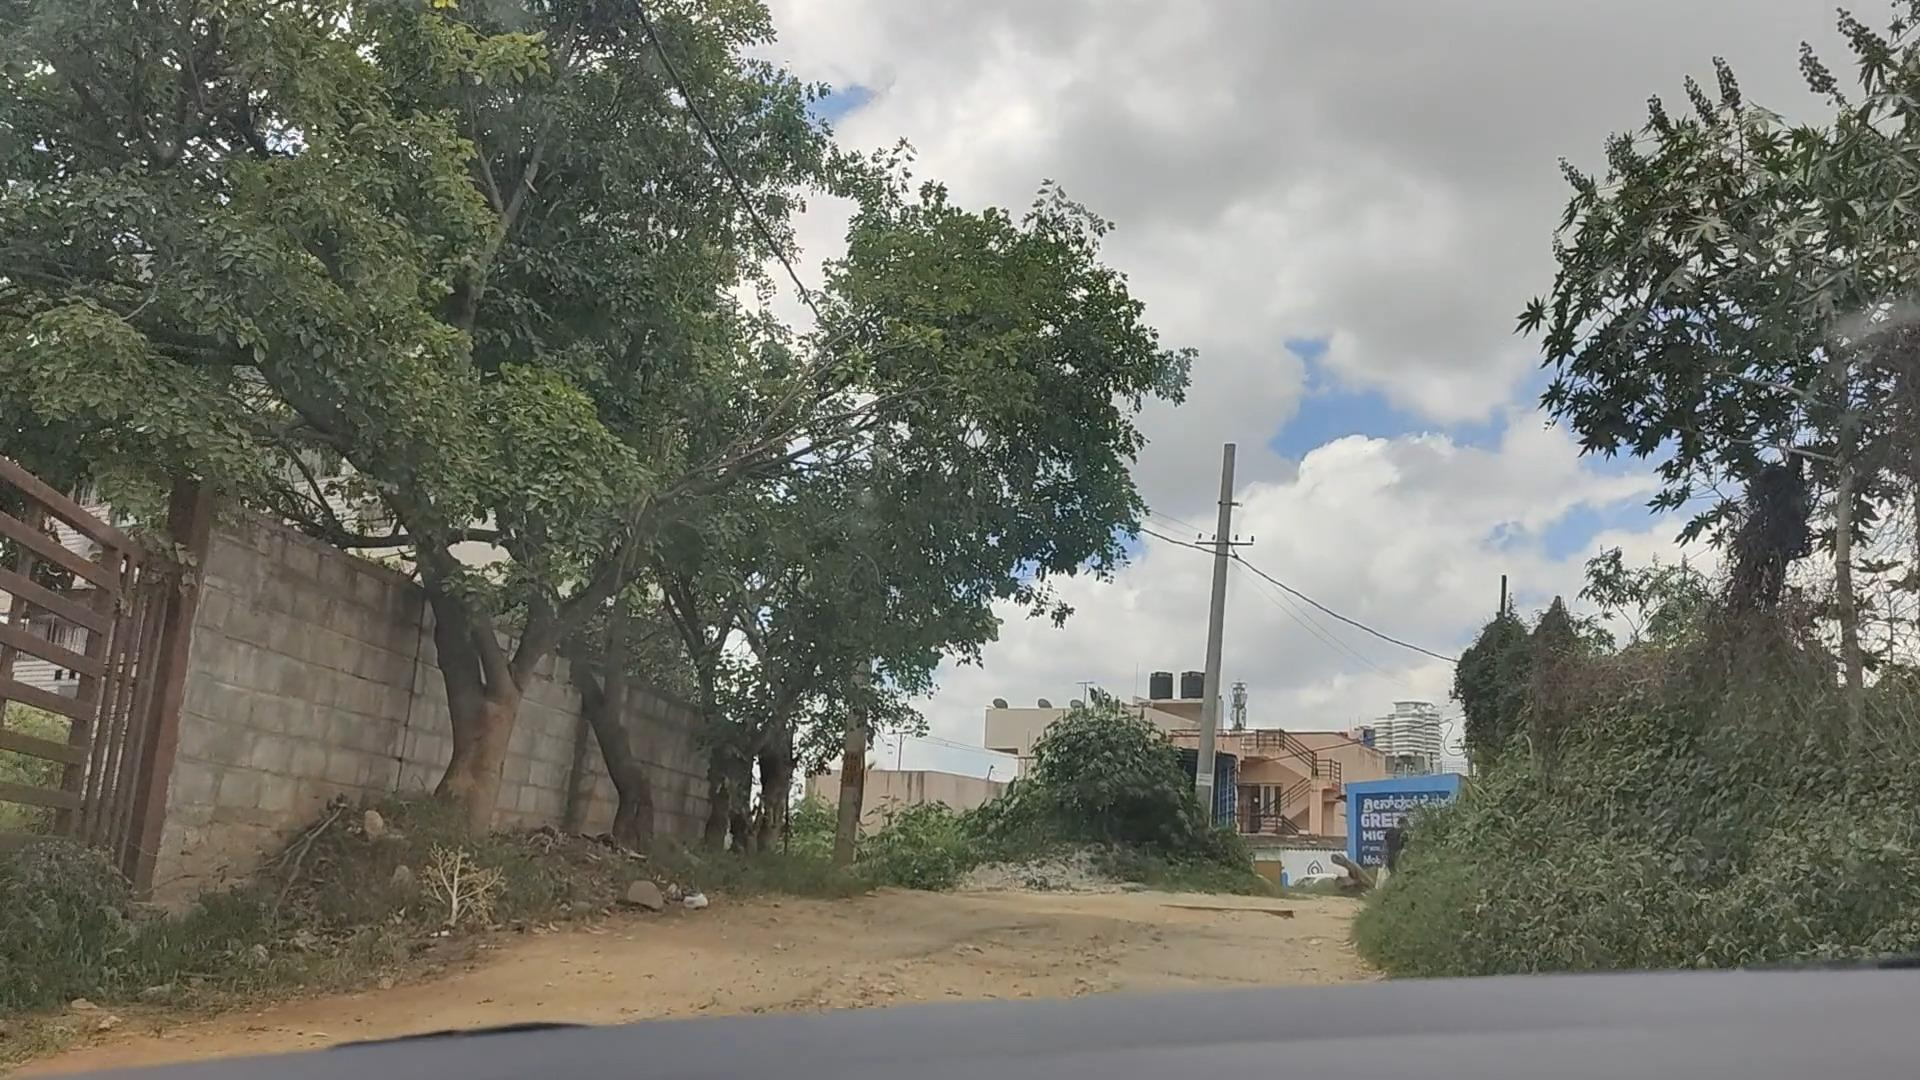RoadDamages: (783, 889, 1208, 1007)
